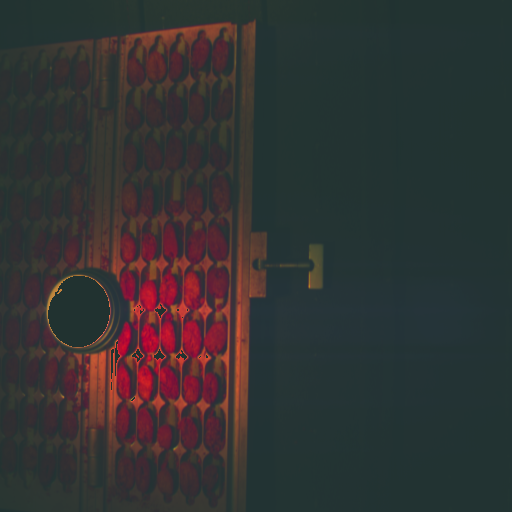bueno: (215, 38, 234, 77), (193, 36, 212, 73), (206, 412, 223, 453), (141, 181, 159, 219), (160, 364, 179, 396), (116, 320, 133, 354), (139, 457, 153, 496), (116, 404, 131, 439), (170, 53, 186, 82), (120, 270, 136, 299), (50, 183, 64, 216), (144, 230, 158, 260), (169, 95, 183, 123), (143, 323, 157, 351), (63, 409, 76, 438), (33, 65, 47, 90), (212, 143, 227, 165), (51, 231, 64, 256)
malo: (205, 321, 229, 356), (165, 135, 186, 172), (183, 318, 202, 355), (209, 224, 226, 261), (23, 269, 40, 306), (67, 143, 85, 175), (165, 222, 180, 260), (187, 95, 208, 122), (180, 416, 198, 447), (45, 144, 62, 176), (11, 104, 28, 135), (65, 234, 83, 263), (126, 139, 141, 173), (146, 136, 161, 170), (32, 226, 47, 259), (189, 181, 203, 216), (2, 319, 19, 347), (211, 267, 226, 298), (122, 231, 138, 260), (189, 141, 205, 169), (141, 280, 157, 308), (162, 274, 178, 302), (3, 408, 21, 432), (9, 185, 22, 218), (29, 145, 42, 177), (159, 423, 175, 447), (23, 402, 38, 424), (10, 155, 24, 177), (46, 273, 58, 289)
parcial: (115, 455, 135, 493), (213, 175, 233, 210), (179, 461, 199, 495), (67, 179, 84, 218), (186, 272, 204, 308), (187, 231, 207, 263), (149, 49, 166, 84), (161, 319, 178, 354), (138, 365, 155, 400), (41, 401, 58, 436), (39, 358, 57, 391), (123, 180, 139, 216), (202, 372, 220, 404), (146, 96, 163, 128), (159, 464, 176, 496), (60, 453, 77, 484), (71, 60, 89, 89), (204, 464, 222, 493), (118, 361, 132, 398), (140, 408, 155, 441), (7, 232, 22, 264), (129, 55, 144, 86), (50, 105, 66, 133), (54, 58, 69, 87), (69, 106, 85, 133), (184, 375, 200, 401), (25, 319, 40, 346), (218, 88, 231, 119), (6, 356, 19, 383), (28, 194, 43, 217), (127, 105, 142, 126), (62, 371, 76, 393), (167, 199, 182, 212)
